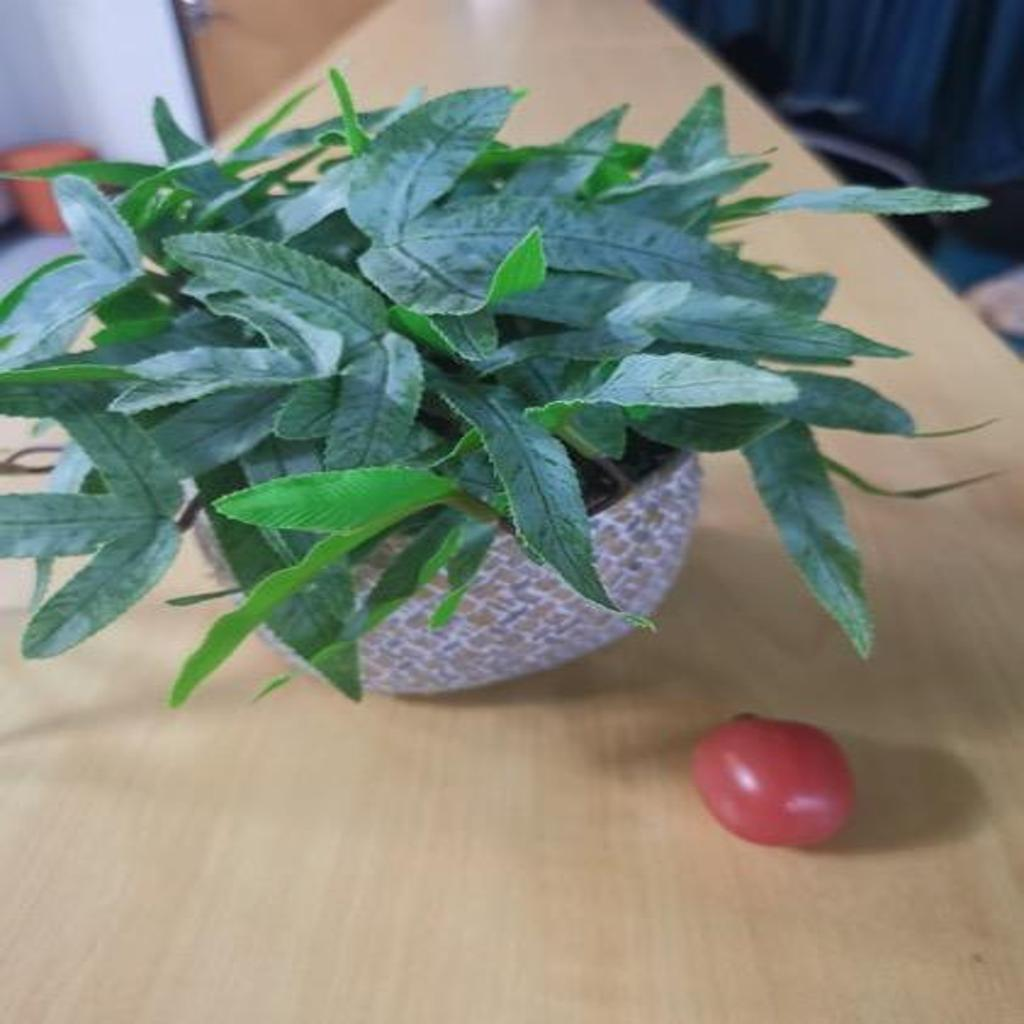tomato: (673, 701, 871, 864)
